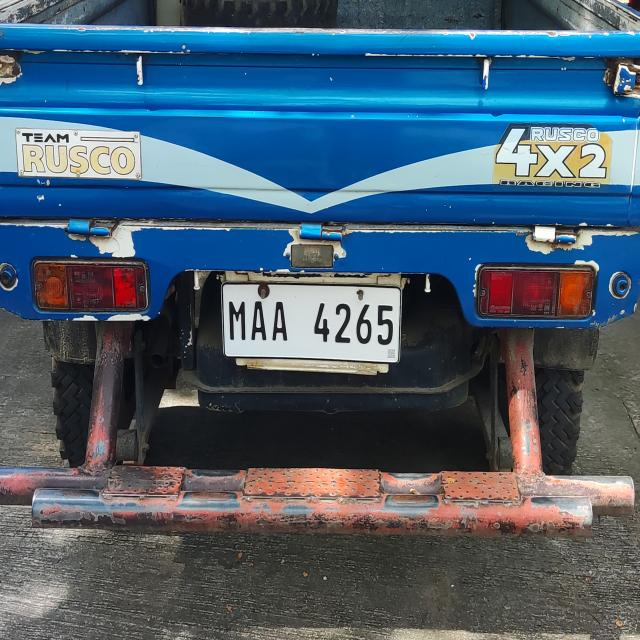plate: (219, 280, 403, 366)
